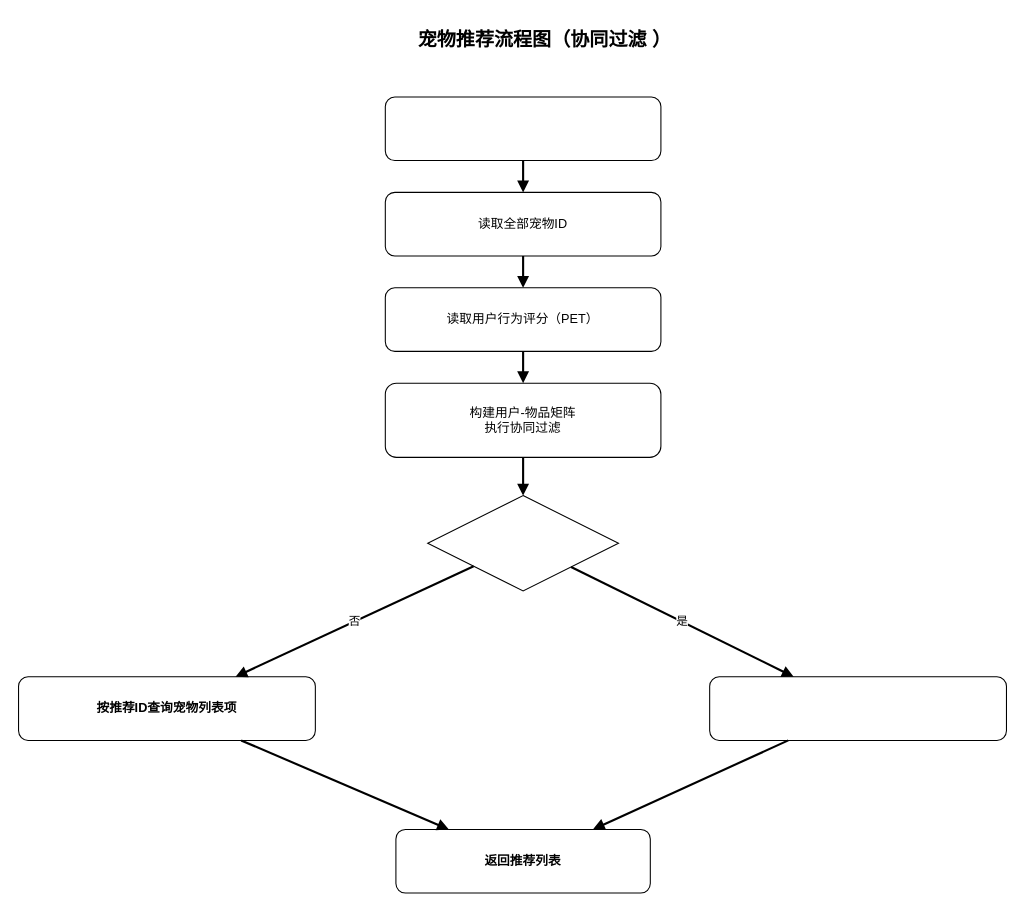
The diagram is 1029 pixels wide and 912 high, and some of its shapes have lost their labels. The centre of each missing label's shape, as x and y in pixels:
冷启动：按浏览热度取 TopN: pixel 857 708
推荐结果是否为空？: pixel 523 542
进入 autoRecommend(count): pixel 522 128
